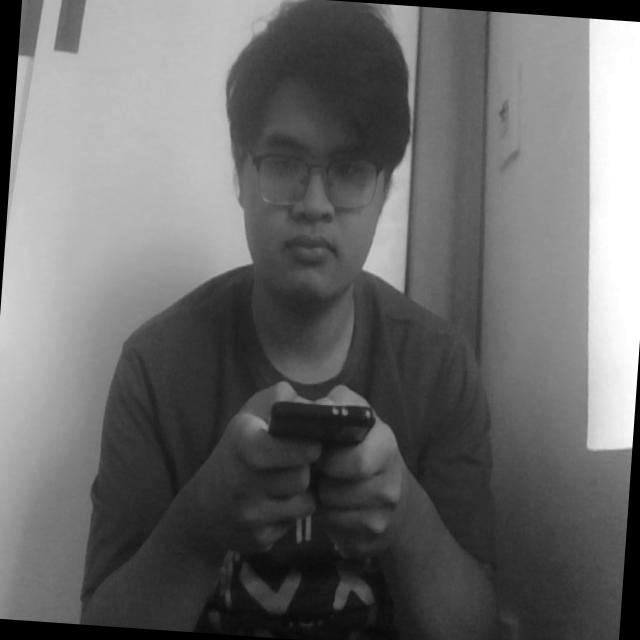phone: (249, 377, 390, 478)
